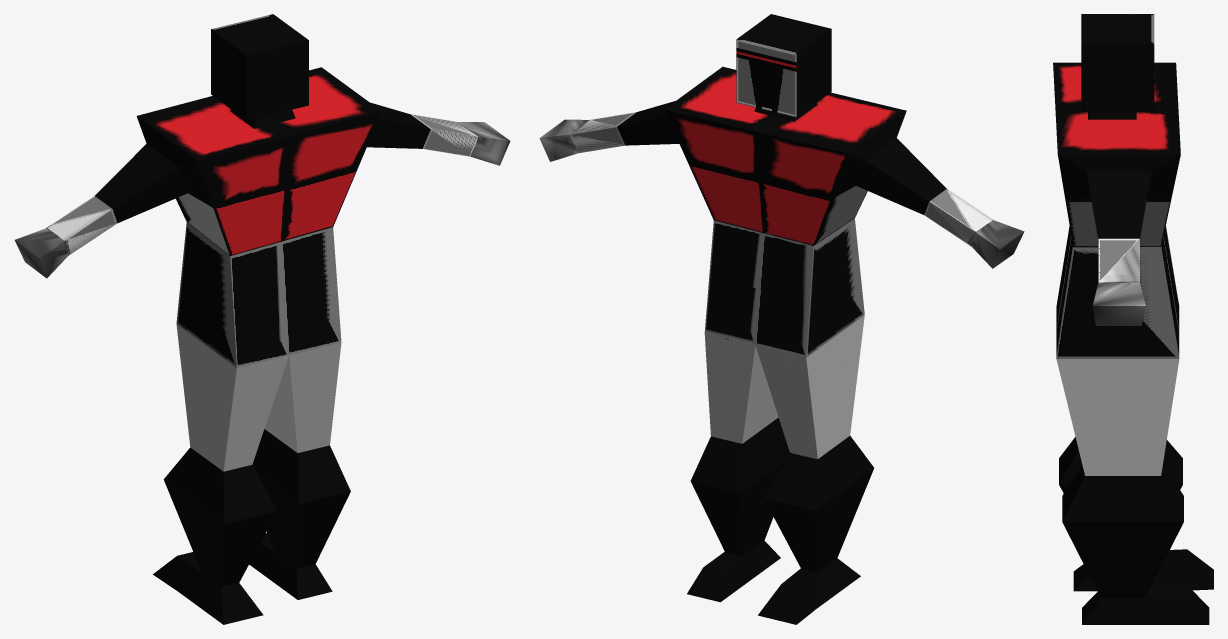
The model's file is man2.obj.
3 renders of one model, left to right at view 1: azimuth 30°, elevation 25°; view 2: azimuth 150°, elevation 25°; view 3: azimuth 270°, elevation 25°, orthographic. The views are drawn at different scales.
Parts seen in each view (by area): view 1: Cube; view 2: Cube; view 3: Cube.
Boxes of the visible parts, x1=… form: Cube: x1=14, y1=14, x2=510, y2=624; Cube: x1=539, y1=14, x2=1024, y2=624; Cube: x1=1053, y1=14, x2=1213, y2=624.
Bounding box in the file's own units: 2.17 × 2.46 × 0.6277.
